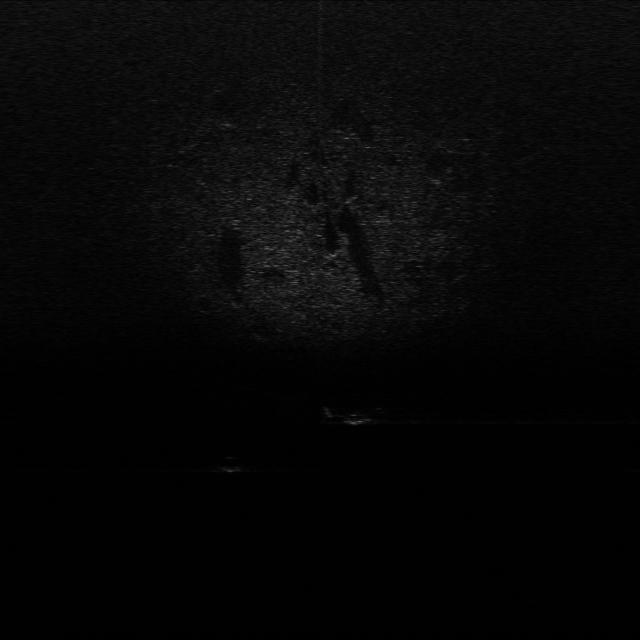ball: (212, 452, 249, 478)
human body: (317, 404, 391, 430)
